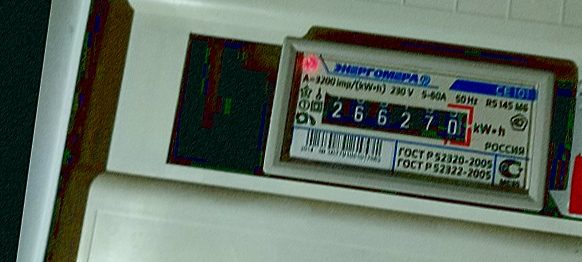0: (443, 115, 457, 137)
2: (327, 98, 344, 120), (397, 109, 411, 130)
6: (350, 103, 365, 124), (374, 106, 388, 126)
7: (419, 112, 434, 132)
screen: (305, 78, 484, 157)
